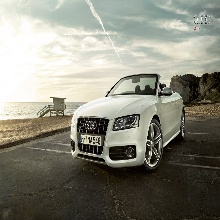no damage: (69, 72, 188, 171)
